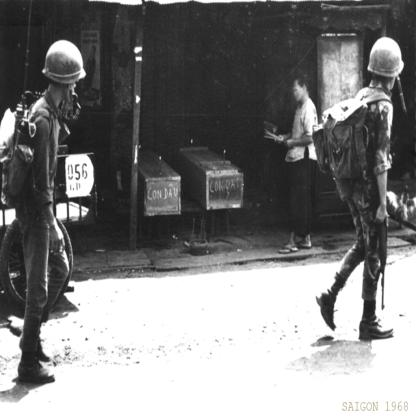Helmet: (42, 37, 85, 121), (369, 37, 407, 97)
